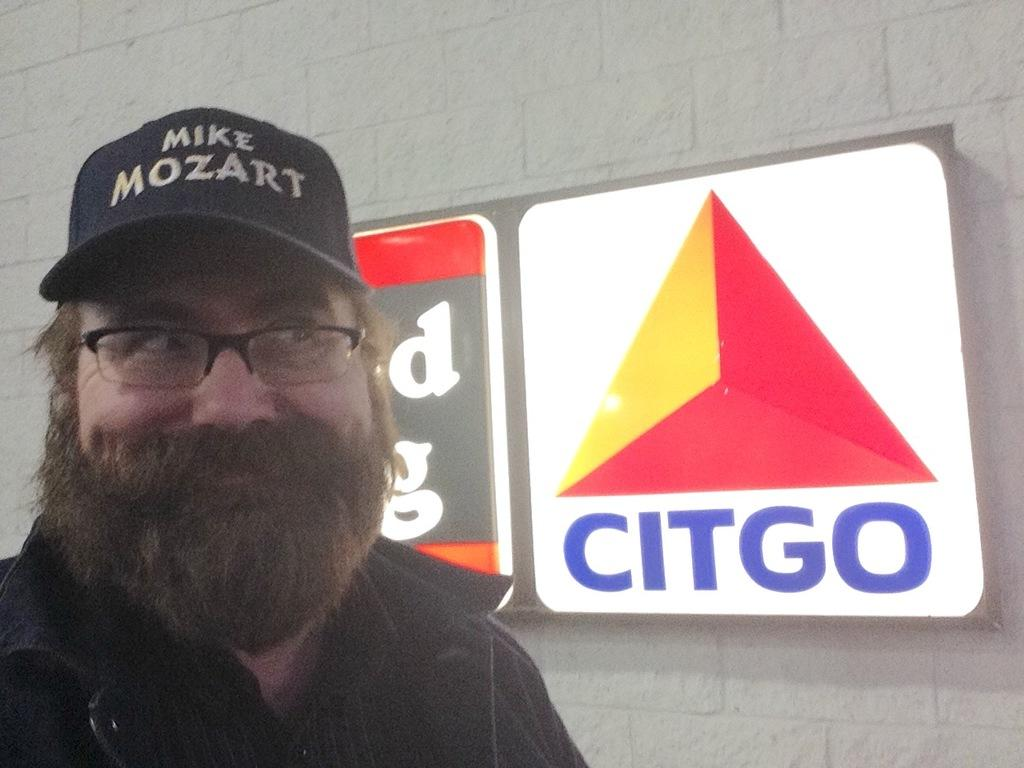Hat: (38, 105, 364, 313)
